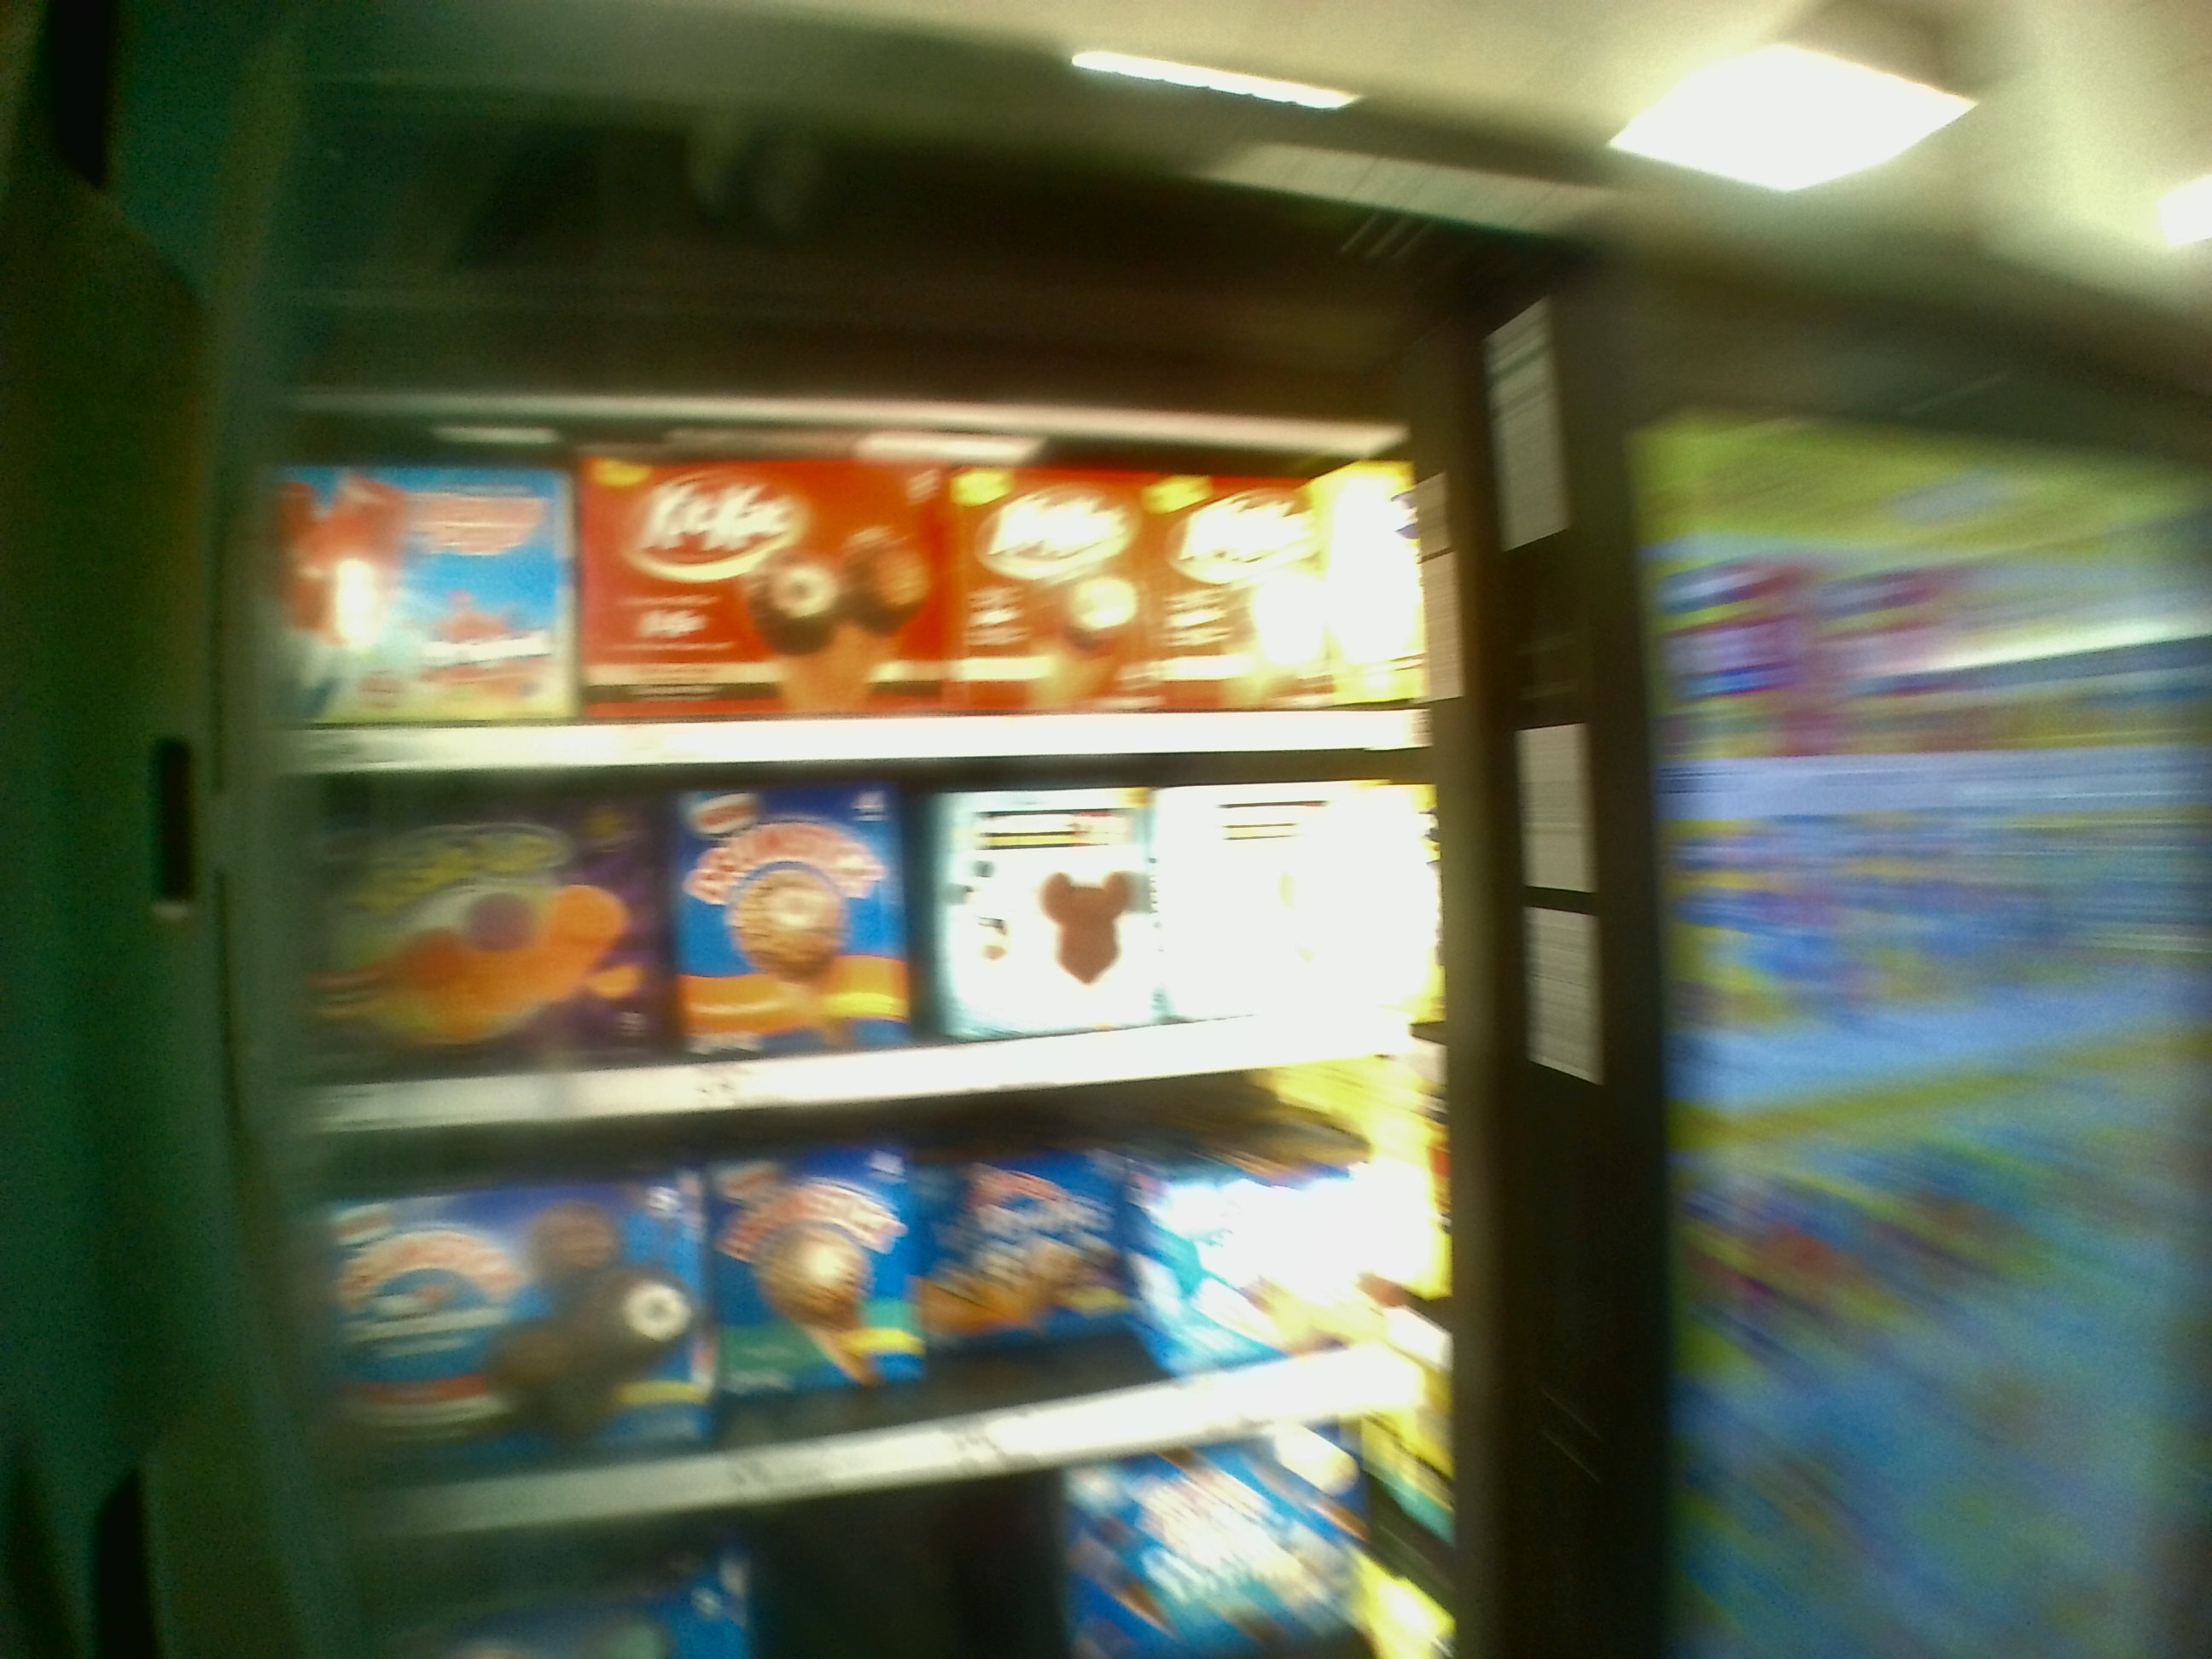shelf: (268, 762, 1421, 1126), (298, 1131, 1453, 1485), (249, 427, 1442, 753)
